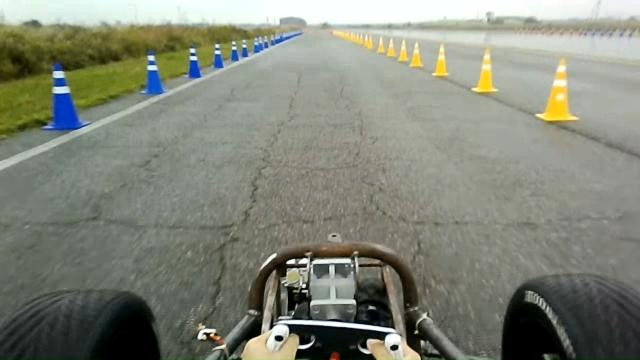blue cone: (41, 62, 91, 131), (140, 49, 168, 95), (185, 44, 202, 79), (212, 42, 224, 68), (230, 40, 239, 62), (241, 38, 249, 57), (253, 37, 261, 53), (263, 34, 269, 49)
yellow cone: (535, 58, 580, 122), (471, 48, 498, 93), (432, 43, 449, 77), (409, 41, 424, 67), (397, 39, 408, 62), (386, 38, 396, 57), (376, 36, 386, 54), (364, 33, 373, 49)
